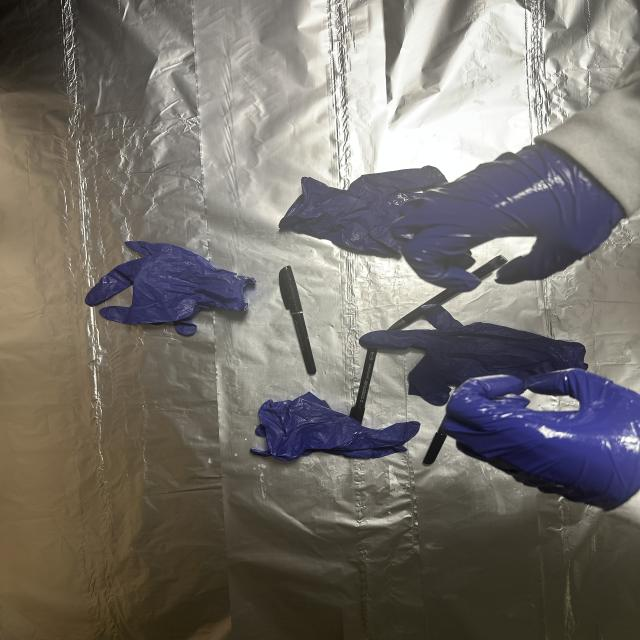gloves_contaminated: (390, 142, 626, 290), (443, 368, 640, 511)
